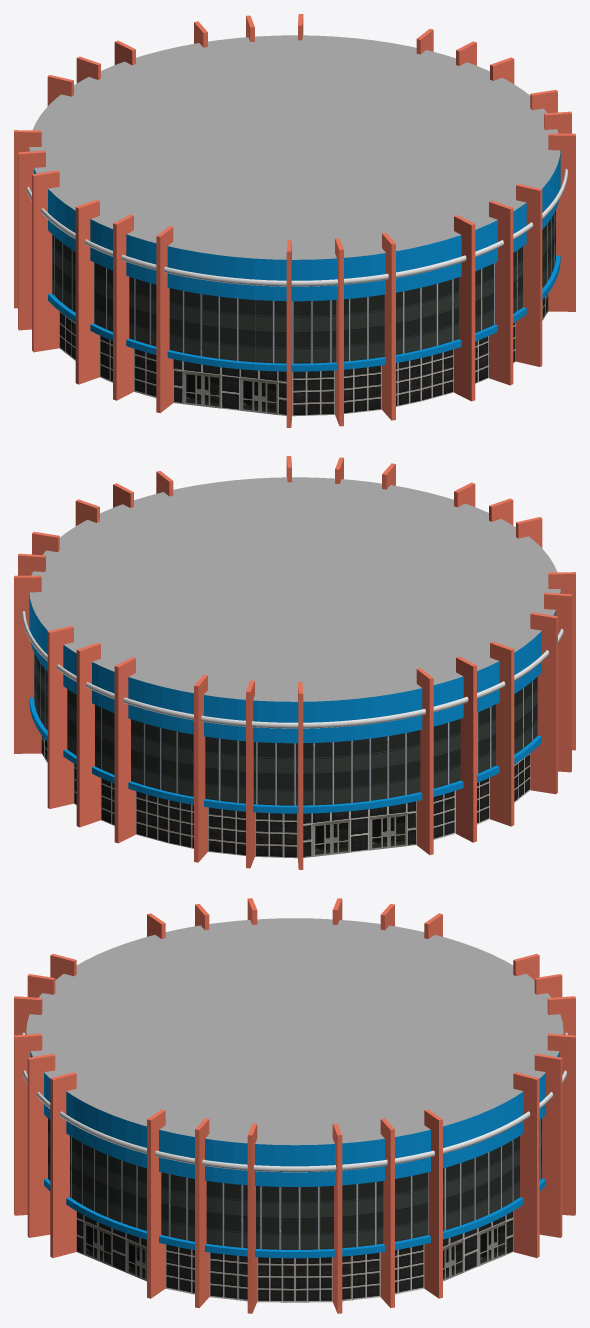
The picture shows the model from 3 angles, top to bottom: view 1: azimuth 30°, elevation 25°; view 2: azimuth 150°, elevation 25°; view 3: azimuth 270°, elevation 25°; orthographic projection.
Visible parts, largest first — view 1: QD-02; view 2: QD-02; view 3: QD-02.
Part boxes in pixels (bbox=[...]): QD-02: bbox=[14, 14, 575, 427]; QD-02: bbox=[14, 456, 575, 869]; QD-02: bbox=[14, 898, 575, 1313].
Size of what is drawn, in the model's own units: 40.49 by 14.2 by 40.52.
